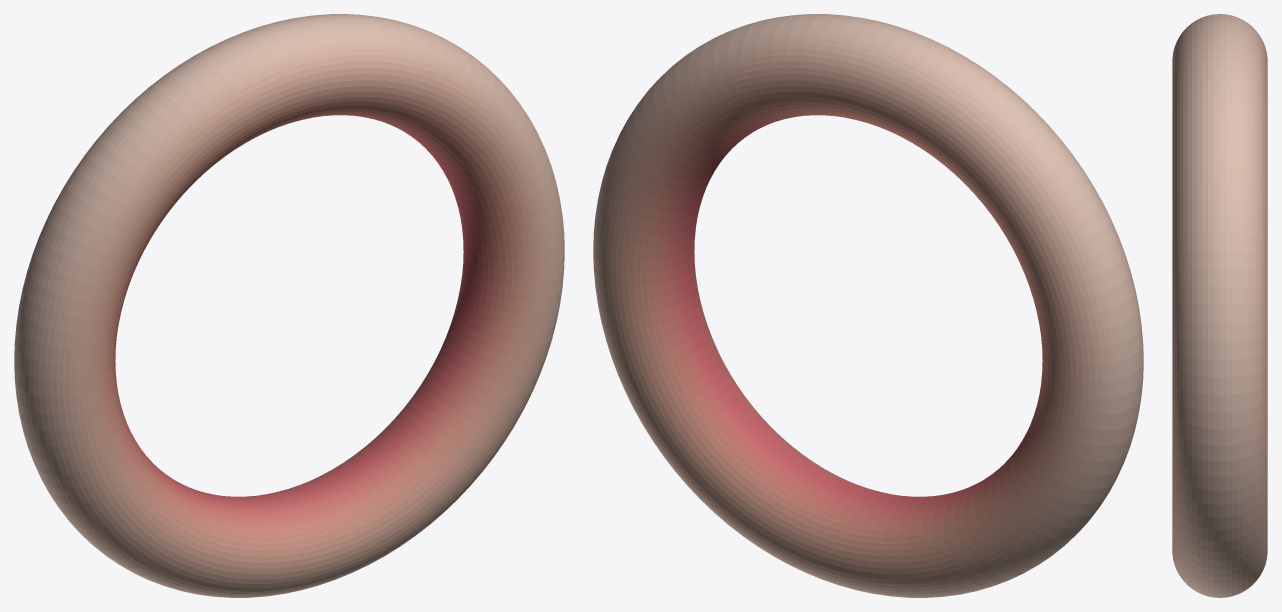
3 views of the same model, side by side, from view 1: azimuth 30°, elevation 25°; view 2: azimuth 150°, elevation 25°; view 3: azimuth 270°, elevation 25° (orthographic). The views are drawn at different scales.
Parts seen in each view (by area): view 1: world; view 2: world; view 3: world.
Boxes of the visible parts, box(x1,y1,x2,y2) form: world: box(14, 14, 564, 597); world: box(593, 14, 1143, 597); world: box(1172, 14, 1267, 597).
Bounding box in the file's own units: 33.47 × 33.47 × 5.46.
